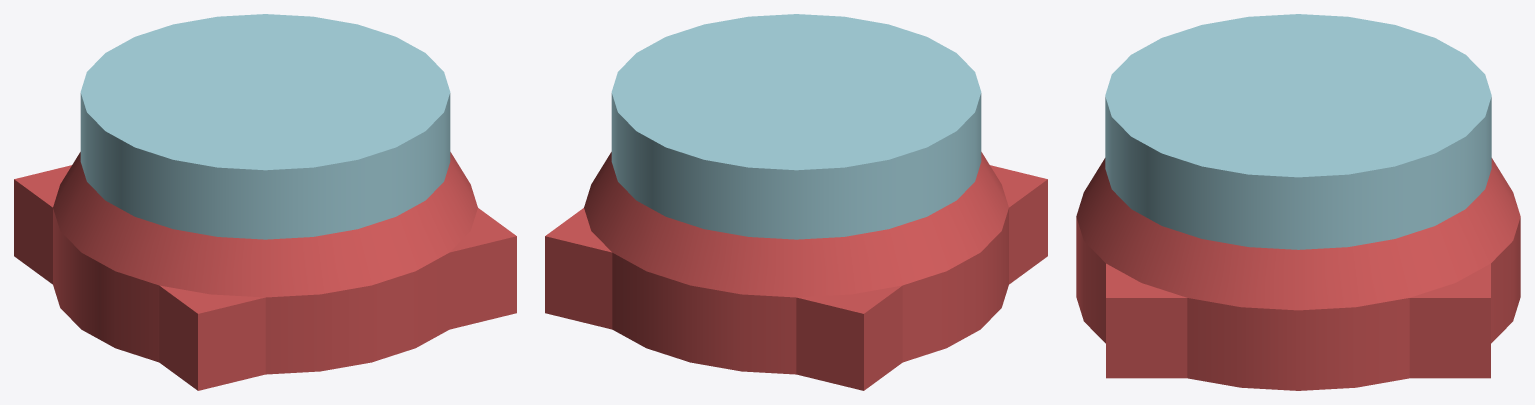
The model's file is towerRound_bottomB.dae.
3 views of the same model, side by side, from view 1: azimuth 30°, elevation 25°; view 2: azimuth 150°, elevation 25°; view 3: azimuth 270°, elevation 25° (orthographic). The views are drawn at different scales.
Visible parts, largest first — view 1: towerRound_bottomB; view 2: towerRound_bottomB; view 3: towerRound_bottomB.
Part boxes in pixels (x1,y1,x2,y2): towerRound_bottomB: [14, 14, 516, 390]; towerRound_bottomB: [545, 14, 1047, 390]; towerRound_bottomB: [1076, 14, 1520, 390].
Size of the model in its own units: 1 by 0.5 by 1.
